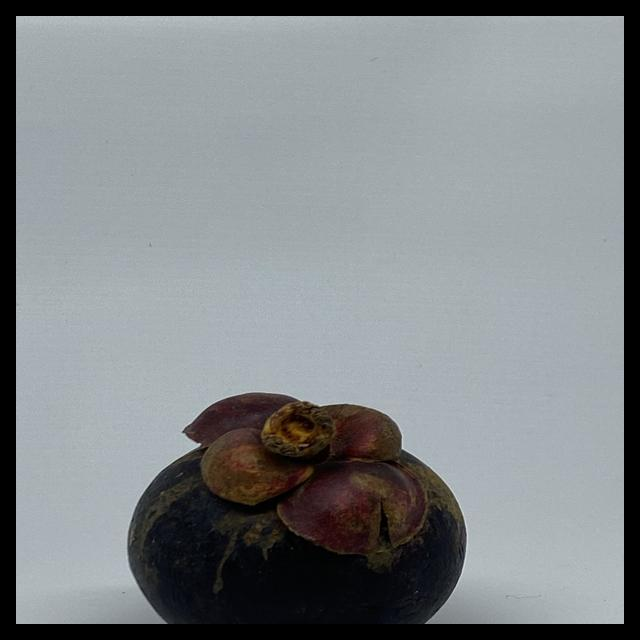mangosteen: (124, 376, 480, 624)
